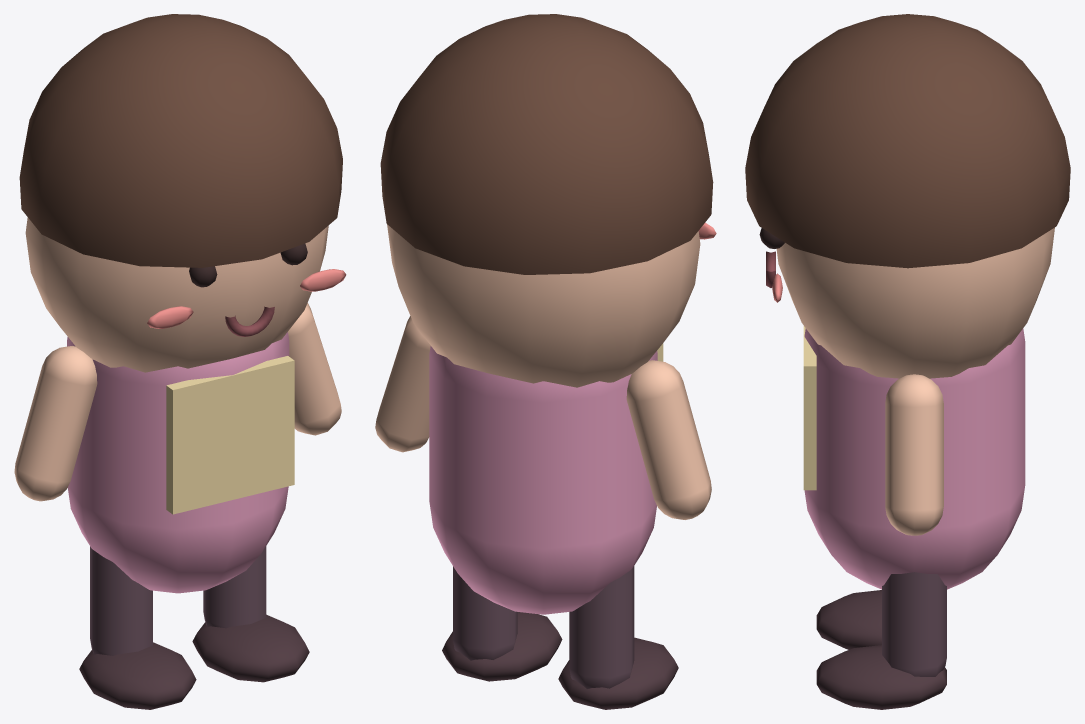
File: customer-cute-06.glb
The picture shows the model from 3 angles, left to right: view 1: azimuth 30°, elevation 25°; view 2: azimuth 150°, elevation 25°; view 3: azimuth 270°, elevation 25°; orthographic projection. The views are drawn at different scales.
Bounding box in the file's own units: 1.13 × 2.18 × 0.9983.
